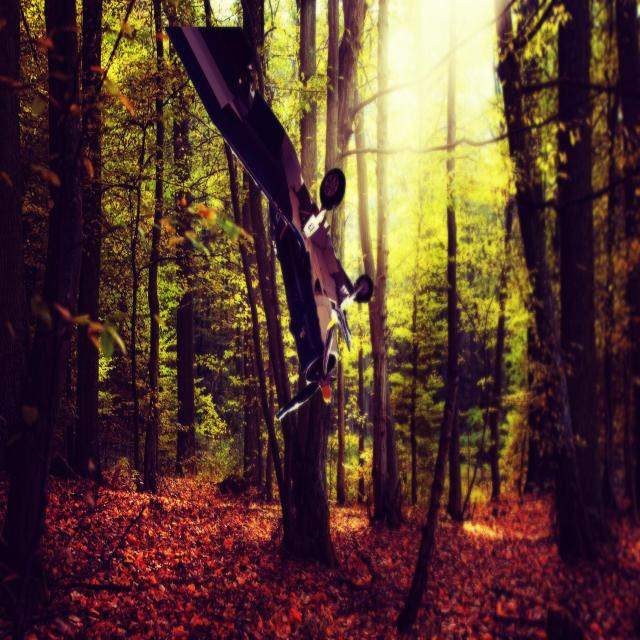airplane: (163, 23, 374, 421)
